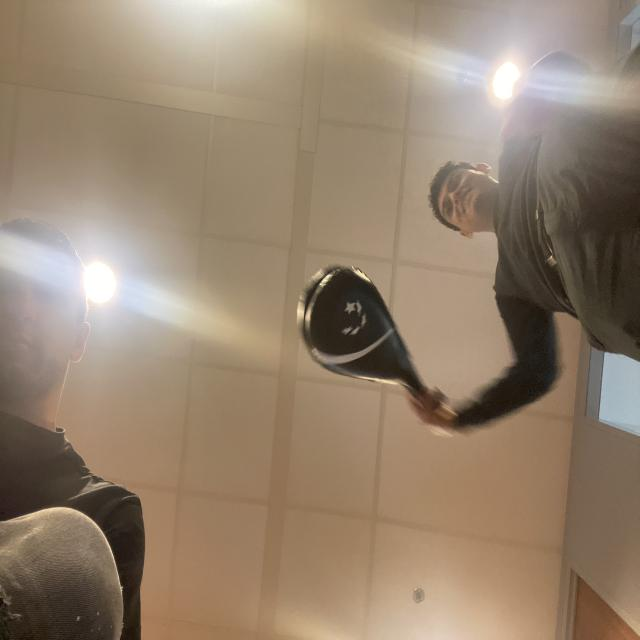paddle: (300, 269, 388, 385)
